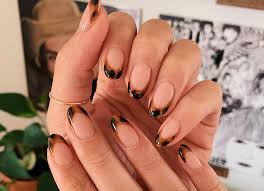nail: (65, 103, 95, 138), (148, 78, 175, 116), (111, 114, 139, 149), (46, 133, 75, 166), (126, 65, 151, 100), (155, 118, 183, 148), (79, 1, 100, 35), (104, 47, 126, 79), (177, 145, 202, 169)
